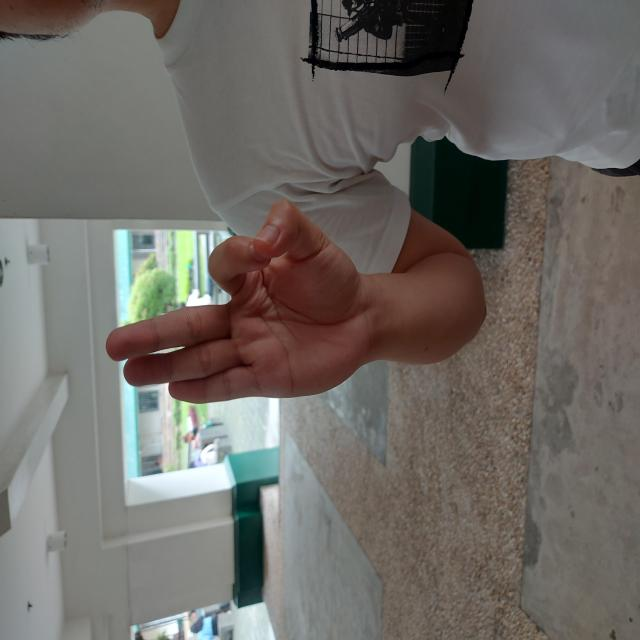F: (233, 102, 447, 376)
